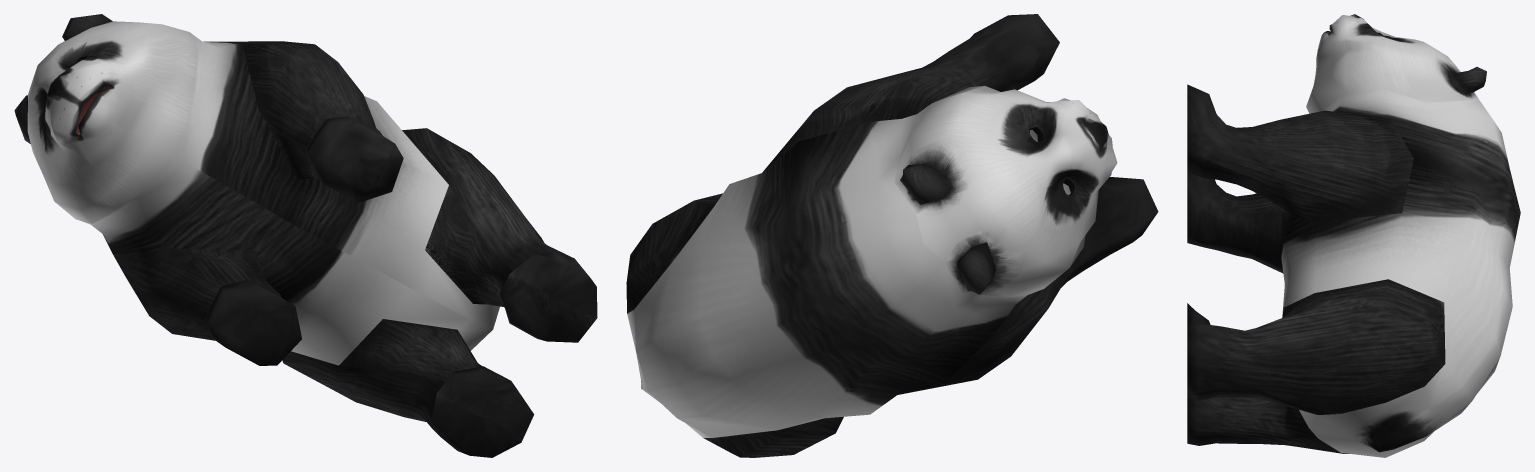
File: panda.glb
The picture shows the model from 3 angles, left to right: view 1: azimuth 30°, elevation 25°; view 2: azimuth 150°, elevation 25°; view 3: azimuth 270°, elevation 25°; orthographic projection. The views are drawn at different scales.
Parts seen in each view (by area): view 1: pCube4; view 2: pCube4; view 3: pCube4.
Part boxes in pixels (left/top/right/bottom): pCube4: left=14, top=14, right=597, bottom=457; pCube4: left=626, top=14, right=1158, bottom=457; pCube4: left=1187, top=14, right=1520, bottom=457.
Size of the model in its own units: 3.42 by 2.93 by 2.71.
Materials: 1 (1 with a texture image).
